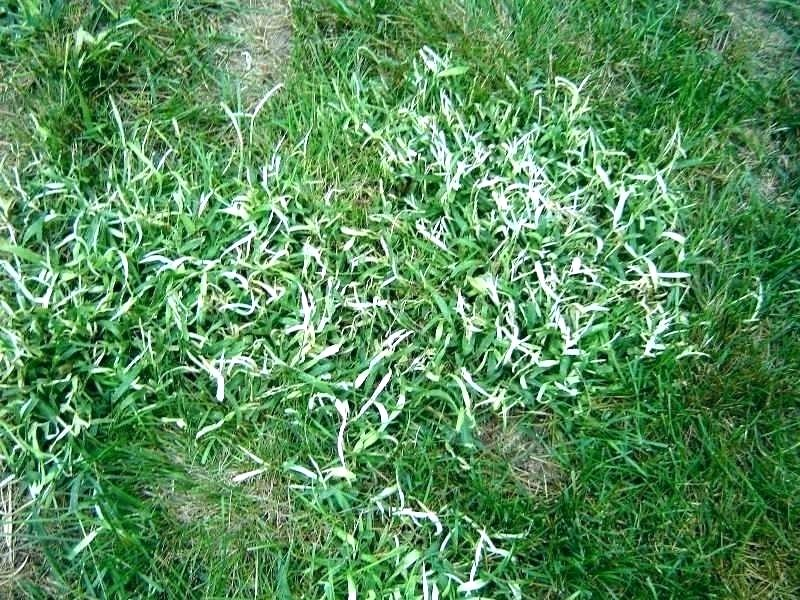crabgrass: (70, 125, 693, 540)
